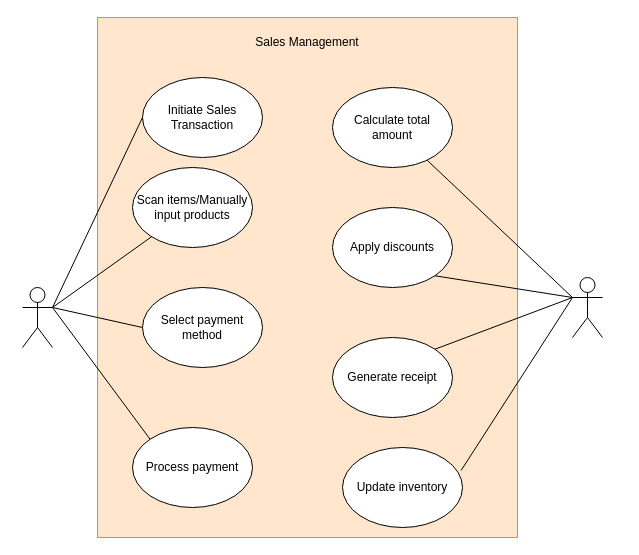
Image size: 639x555. Some labels were removed from this diagram. The shapes that lost their labels are listed below. From the top down, each one's box as (x1, y1, x2, y2) in pixels, then its label:
(22, 286, 52, 348): Cashier
(572, 276, 602, 338): POS System
